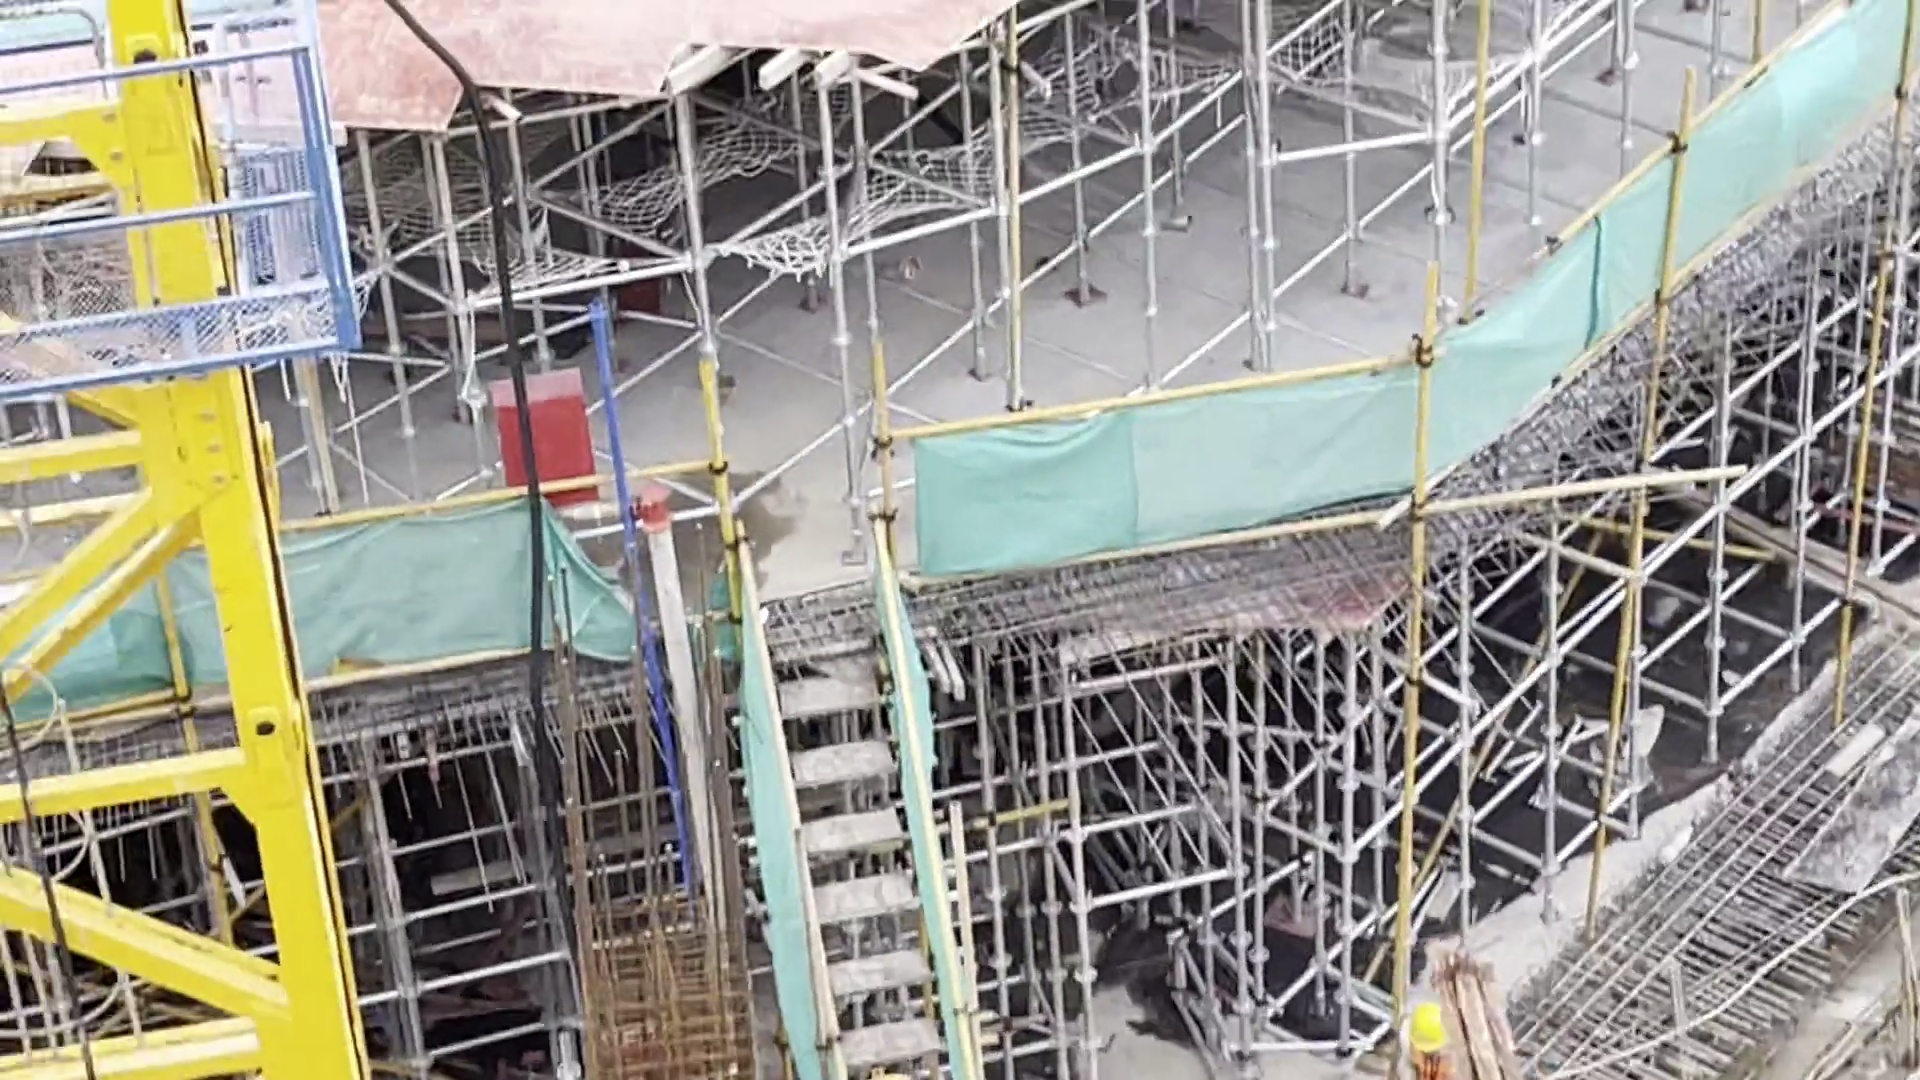helmet: (1407, 1007, 1453, 1050)
vest: (1412, 1048, 1451, 1080)
